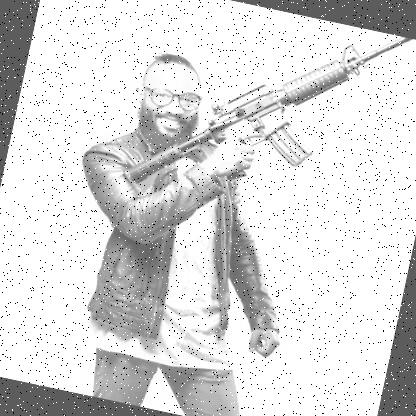rifle: (118, 0, 416, 260)
